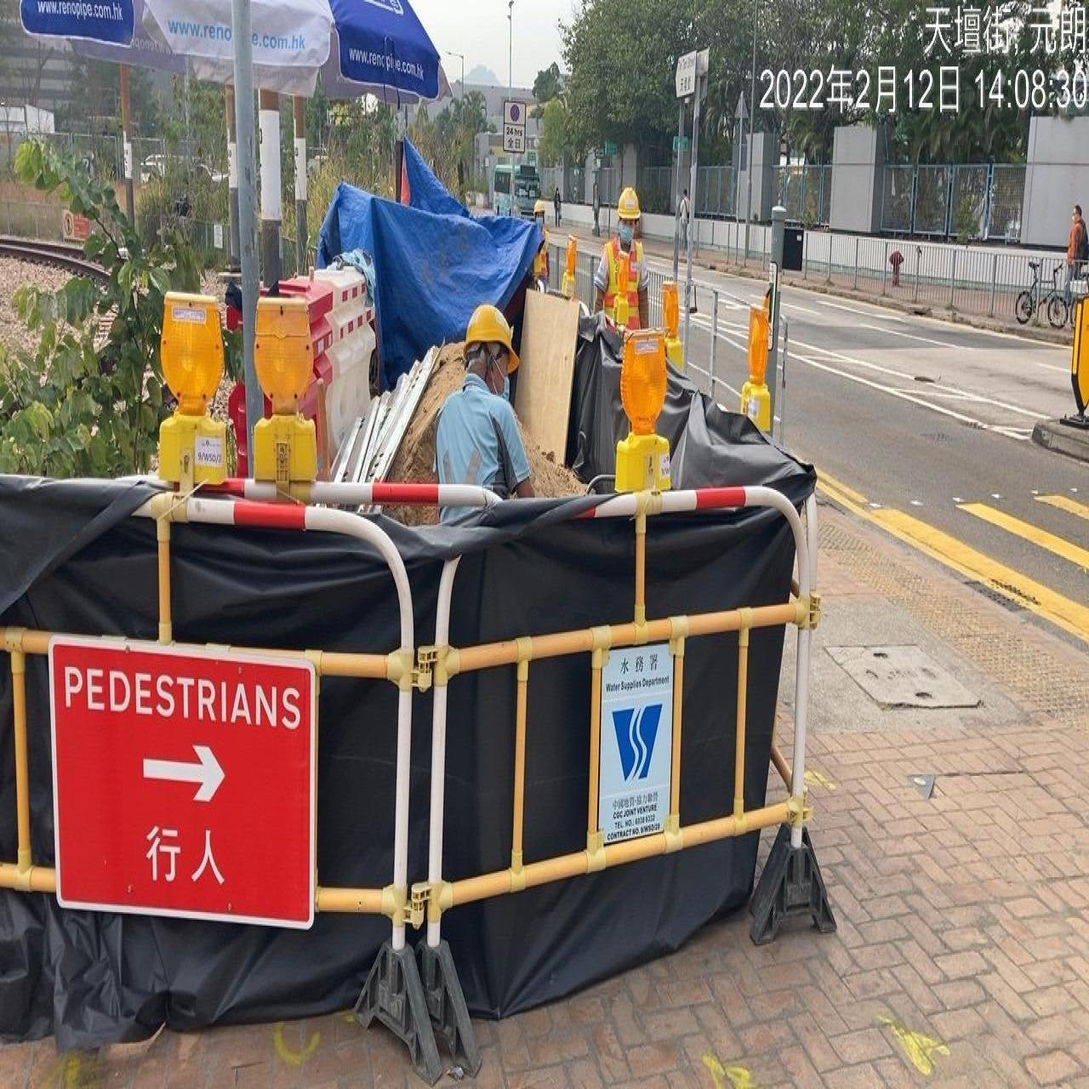NO_Safety_Vest: (440, 395, 513, 505)
Person: (426, 285, 544, 520), (594, 171, 659, 346)
Safety_Vest: (606, 239, 648, 327)
